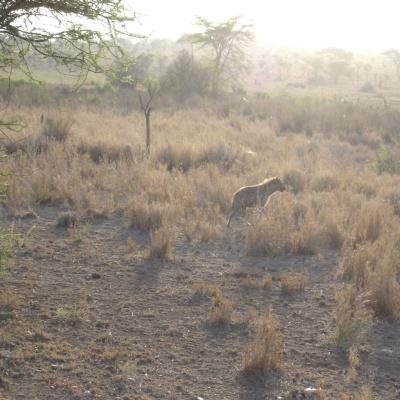hyenas: (226, 169, 287, 230)
